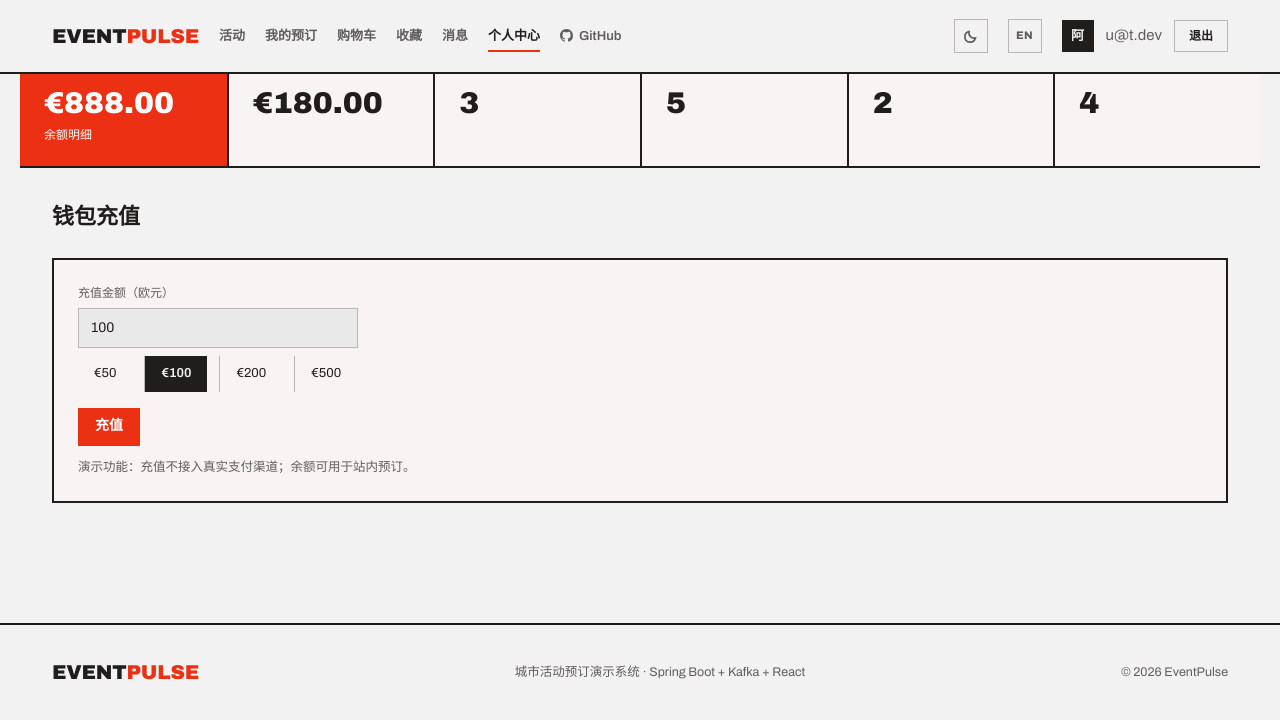
ProfilePage › shows an error note and keeps the balance when recharge fails
(page scrolled)
Expected: the text "€888.00" is shown, [44, 86, 174, 118]
Click the button "充值" at (109, 427), box [78, 408, 140, 446]
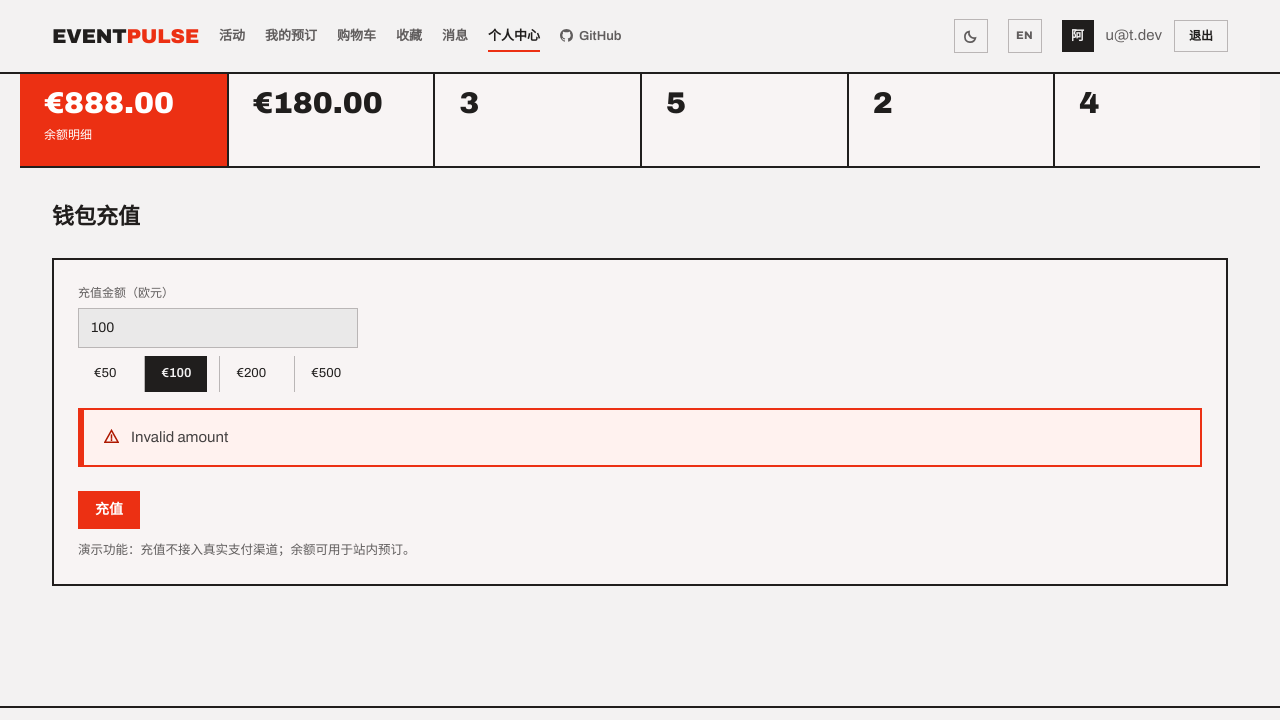
Expected: the text "€888.00" is shown, [44, 86, 174, 118]
Now the text "Invalid amount" is shown, box [131, 429, 228, 445]
